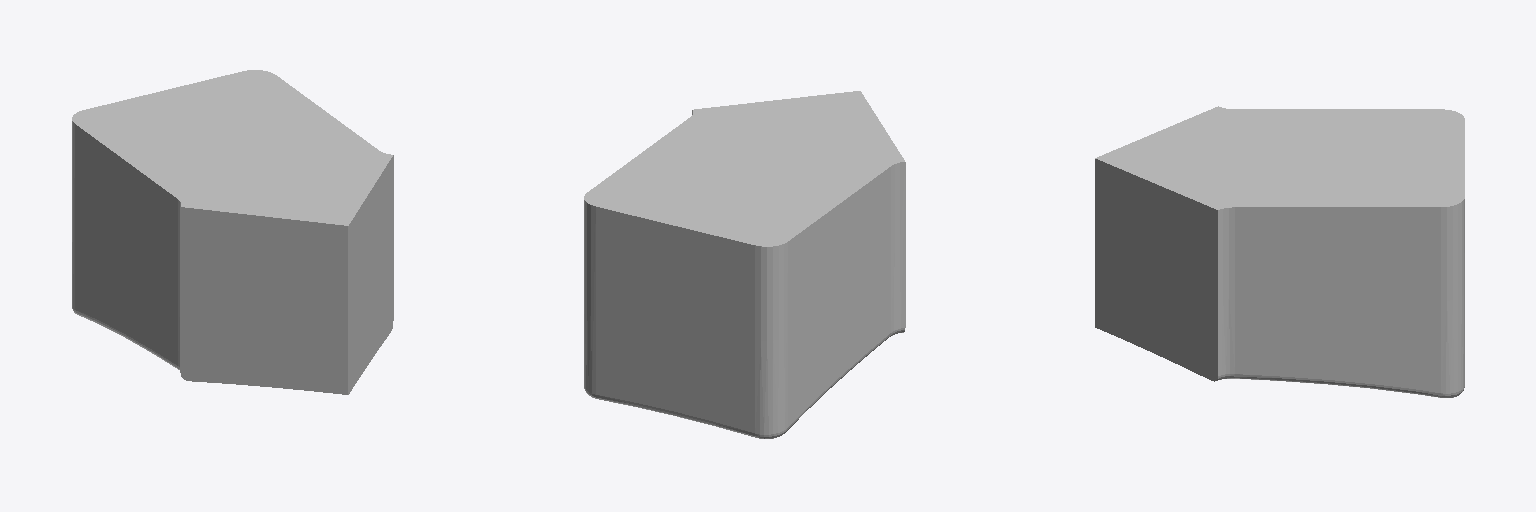
Rendered from DPadDown.obj.
3 renders of one model, left to right at view 1: azimuth 30°, elevation 25°; view 2: azimuth 150°, elevation 25°; view 3: azimuth 270°, elevation 25°, orthographic.
Visible parts, largest first — view 1: DPadDown; view 2: DPadDown; view 3: DPadDown.
Boxes of the visible parts, <box> form: DPadDown: <box>72,70,393,394</box>; DPadDown: <box>584,91,905,438</box>; DPadDown: <box>1095,106,1464,397</box>.
Size of the model in its own units: 6.15 by 5.39 by 9.25.